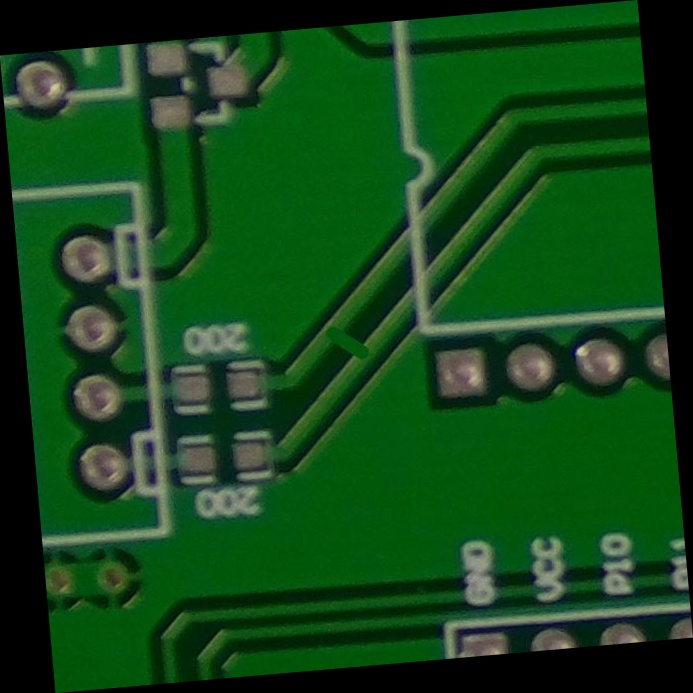short: (301, 308, 392, 385)
